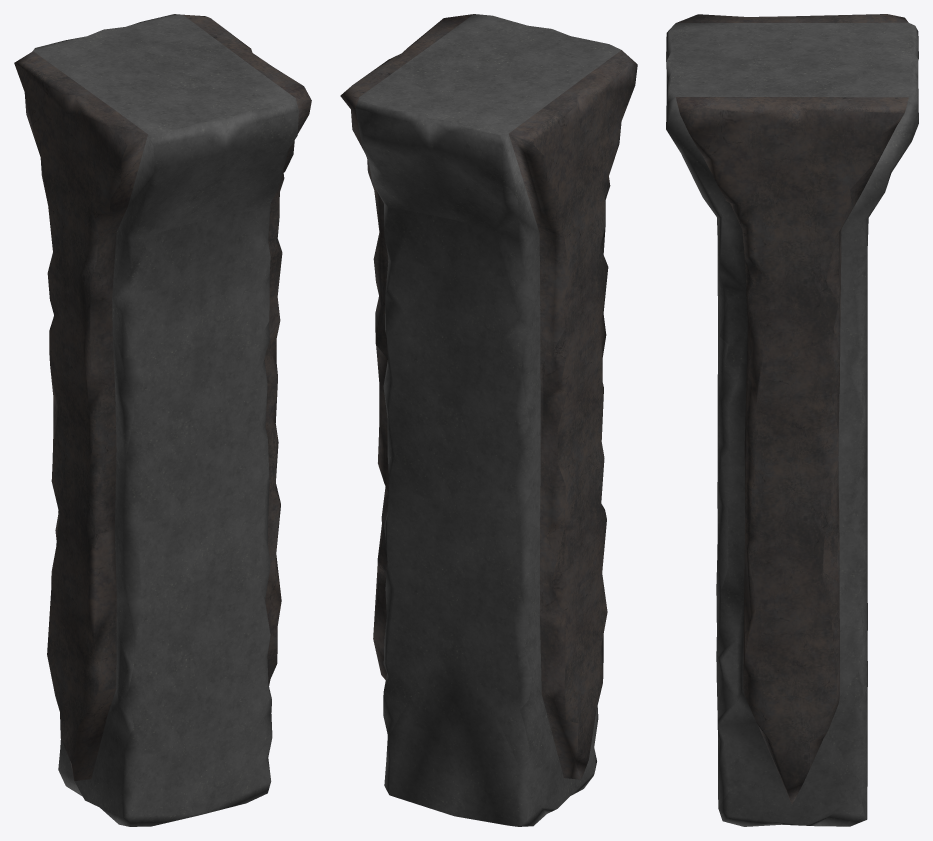
File: SM_ColumnSegmentTop.fbx
The picture shows the model from 3 angles, left to right: view 1: azimuth 30°, elevation 25°; view 2: azimuth 150°, elevation 25°; view 3: azimuth 270°, elevation 25°; orthographic projection. The views are drawn at different scales.
Parts seen in each view (by area): view 1: SM_ColumnSegmentTop_LOD0; view 2: SM_ColumnSegmentTop_LOD0; view 3: SM_ColumnSegmentTop_LOD0.
Boxes of the visible parts, x1,y1,x2,y2 form: SM_ColumnSegmentTop_LOD0: [14, 14, 311, 826]; SM_ColumnSegmentTop_LOD0: [340, 14, 637, 826]; SM_ColumnSegmentTop_LOD0: [666, 14, 918, 826].
Bounding box in the file's own units: 174 × 193 × 616.
Materials: 2 (2 with a texture image).
